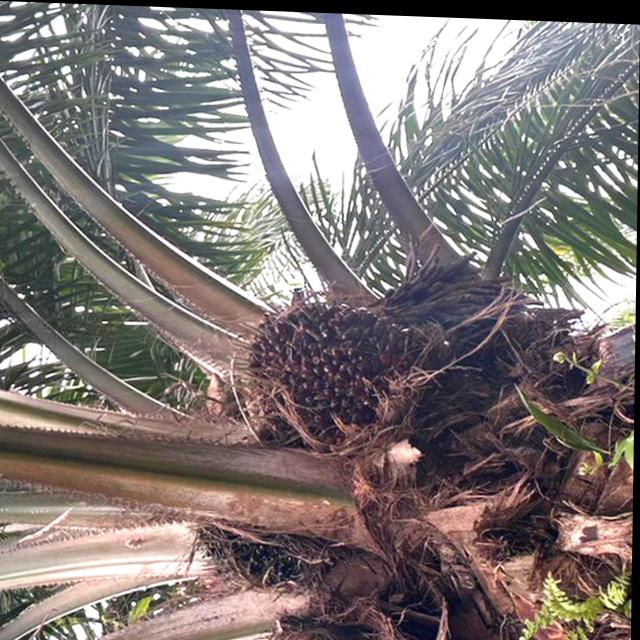ripe: (240, 280, 396, 436), (189, 508, 316, 604)
